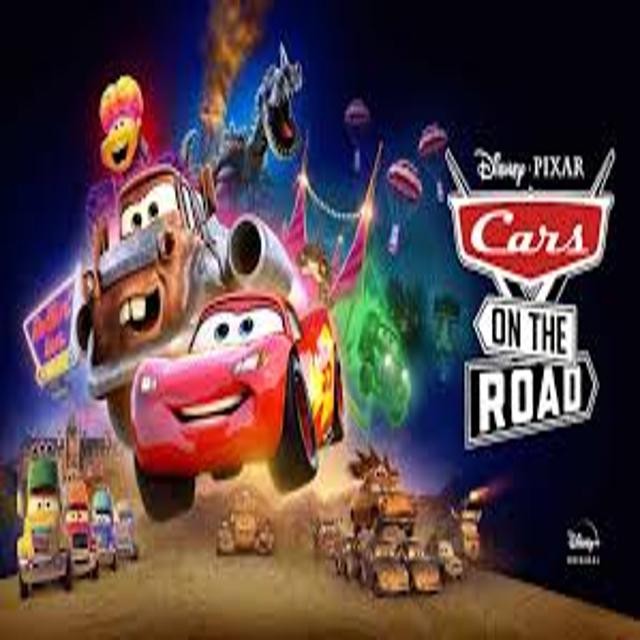car: (131, 296, 345, 522)
